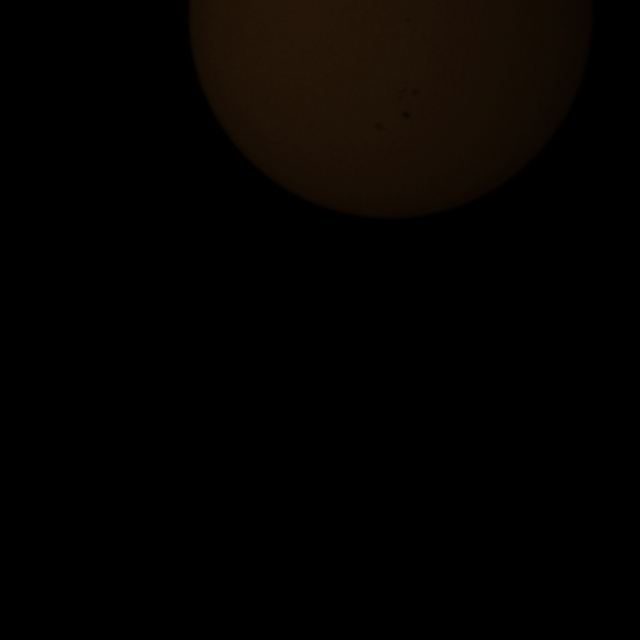sunspot: (388, 100, 420, 123), (366, 114, 390, 140)
